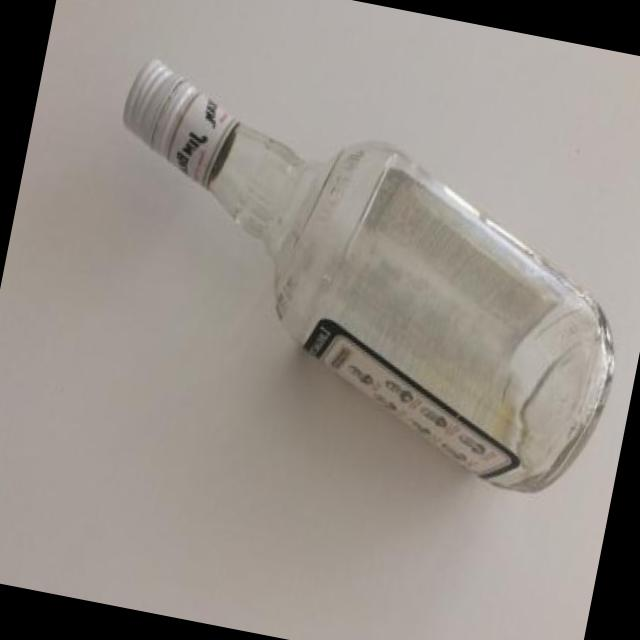chai_thuy_tinh: (120, 60, 617, 498)
